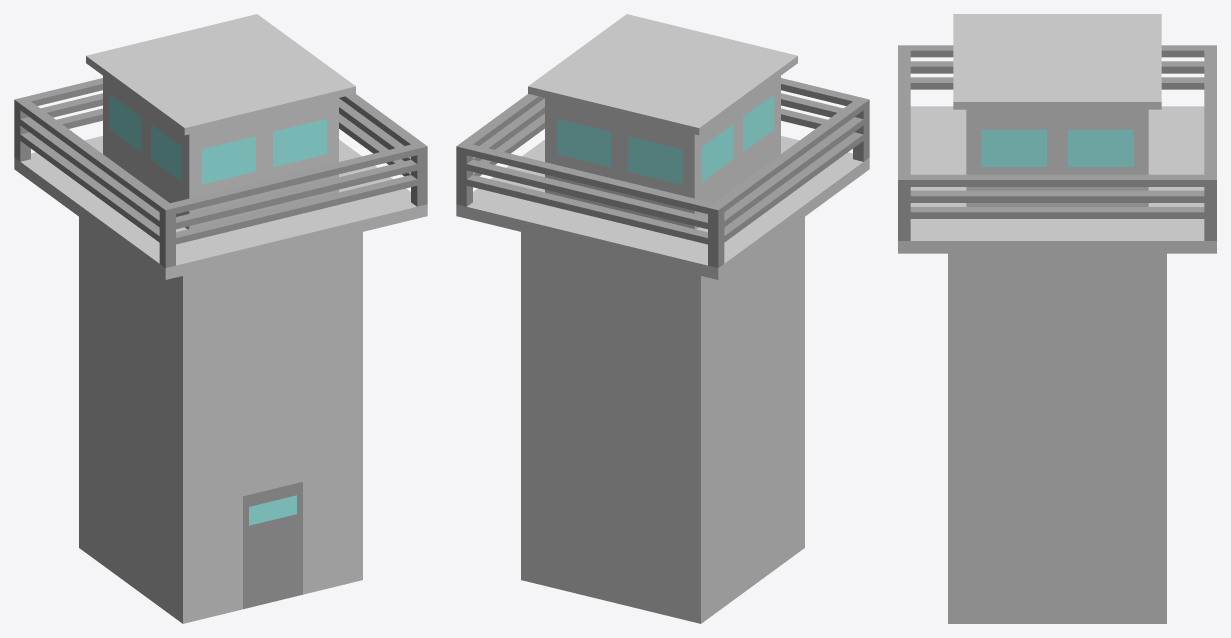
File: torre.fbx
The picture shows the model from 3 angles, left to right: view 1: azimuth 30°, elevation 25°; view 2: azimuth 150°, elevation 25°; view 3: azimuth 270°, elevation 25°; orthographic projection. The views are drawn at different scales.
Visible parts, largest first — view 1: base, techo, varanda, casilla, ventanas, puerta, ventana puerta; view 2: base, techo, varanda, casilla, ventanas; view 3: base, techo, varanda, casilla, ventanas.
Part boxes in pixels (<box>): base: <box>79,217,362,623</box>; techo: <box>14,14,427,279</box>; varanda: <box>14,78,427,267</box>; casilla: <box>103,76,338,229</box>; ventanas: <box>109,94,327,184</box>; puerta: <box>243,482,302,609</box>; ventana puerta: <box>249,495,296,525</box>; base: <box>521,217,804,623</box>; techo: <box>456,14,869,279</box>; varanda: <box>456,78,869,267</box>; casilla: <box>545,76,780,229</box>; ventanas: <box>556,94,774,184</box>; base: <box>948,253,1166,623</box>; techo: <box>898,14,1216,253</box>; varanda: <box>898,45,1216,240</box>; casilla: <box>966,109,1148,206</box>; ventanas: <box>981,129,1133,166</box>.
Bounding box in the file's own units: 728 × 1309 × 728.
